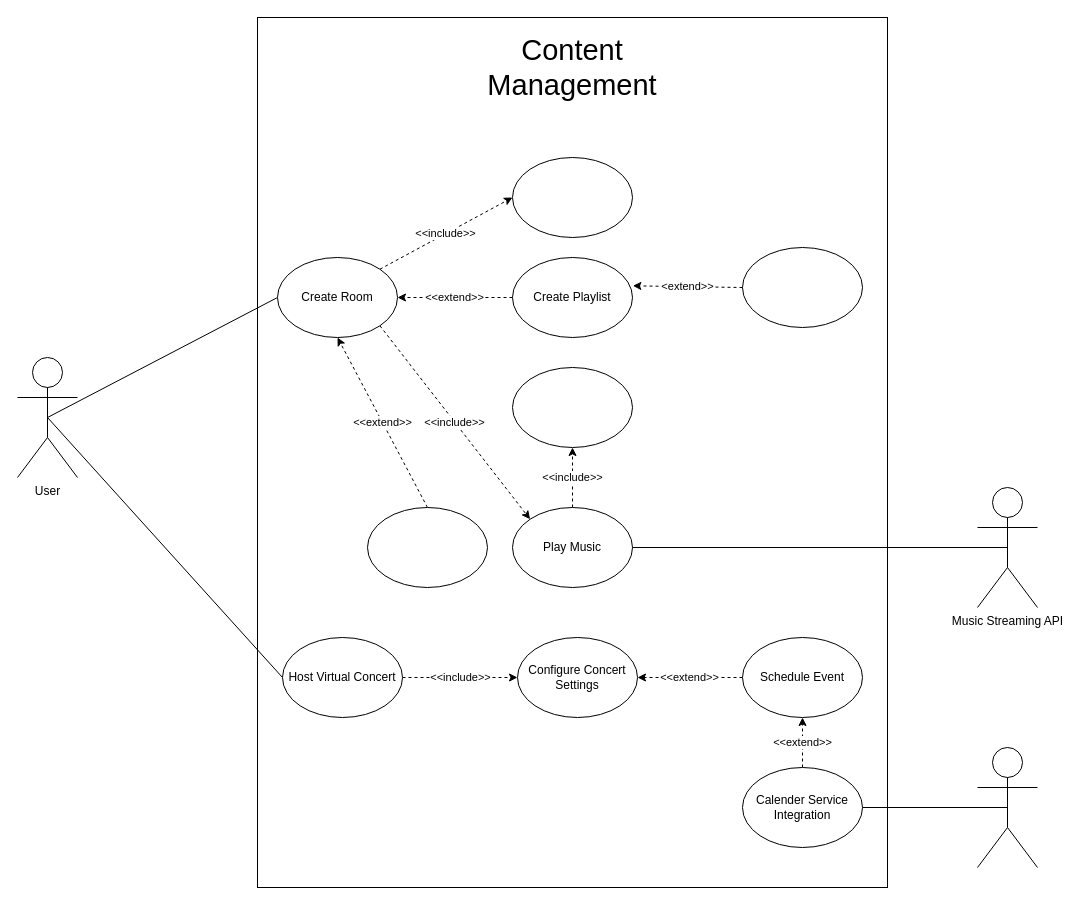
Some shapes in this 1080 by 906 pixel diagram are drawn without their labels. Here are the shapes that lost their labels. From the top down, the centre of each, then its label:
At point 572,197: "Configure Room Settings".
At point 802,287: "Share Playlist".
At point 572,407: "Display Lyrics".
At point 427,547: "Manage participants".
At point 1007,807: "Calender API".
